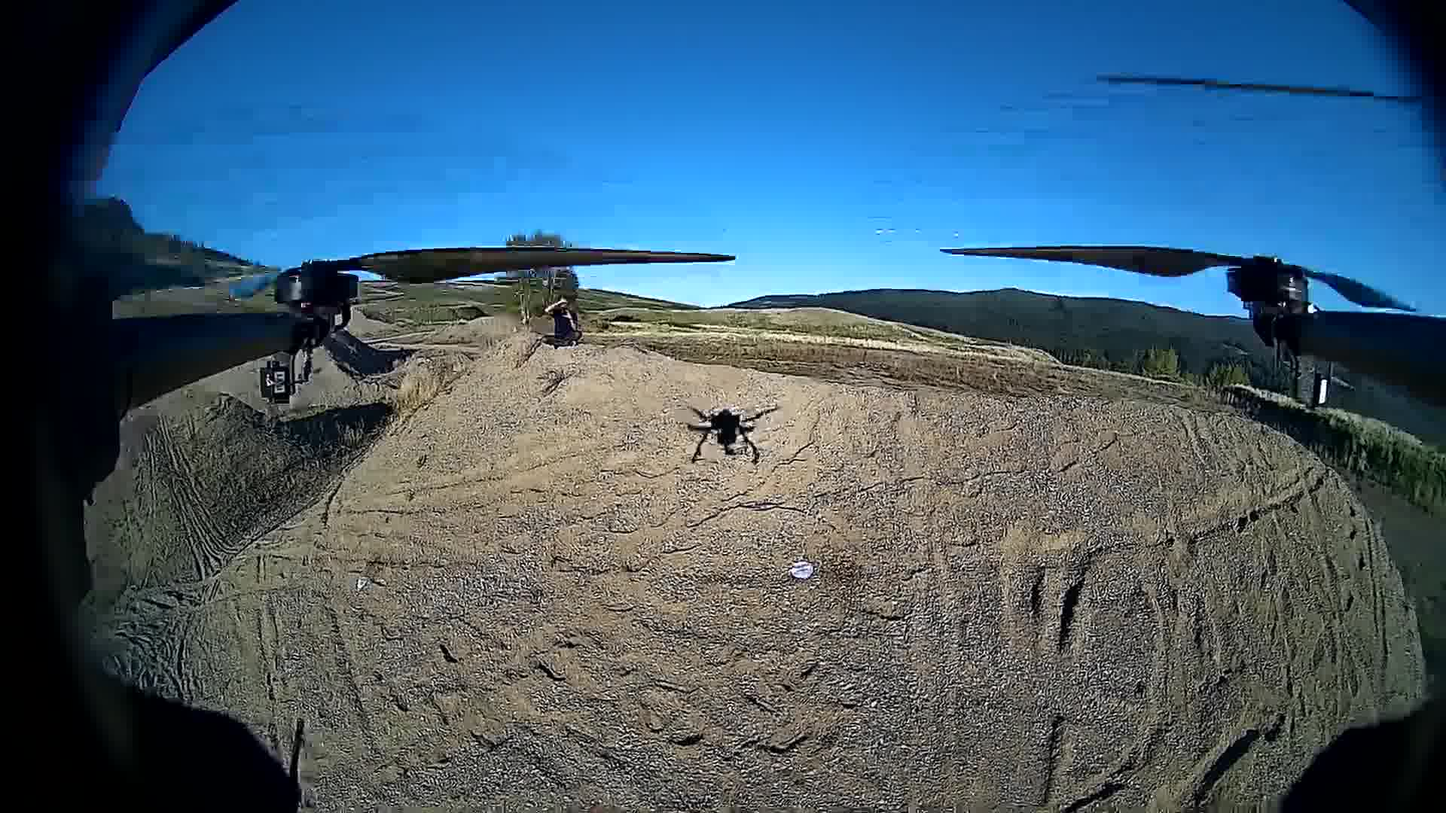Target: (789, 562, 812, 579)
